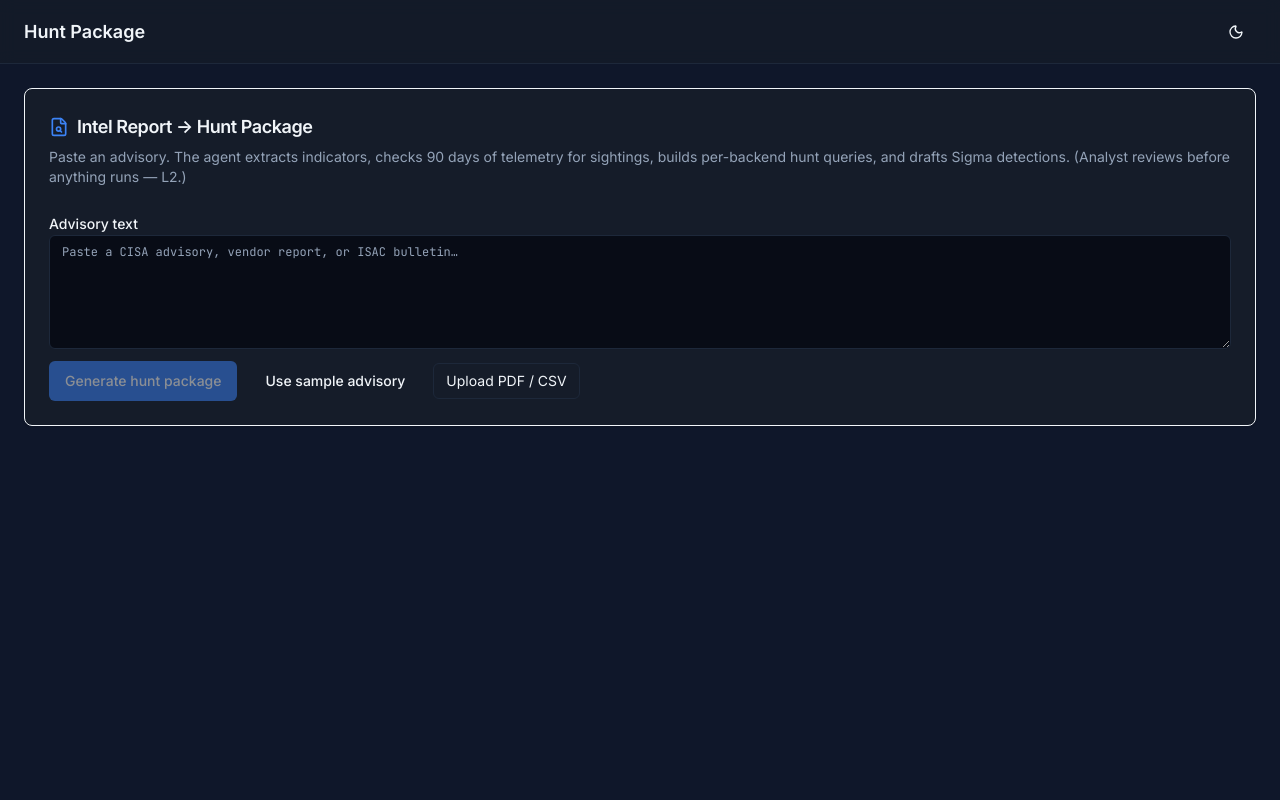
Test: HuntPackagePage promote to investigation › hides the promote button on a transient (unsaved) package
The image size is (1280, 800).
Type "some advisory" into the text box with test id "hunt-package-input" at (640, 292), box [49, 235, 1231, 349]
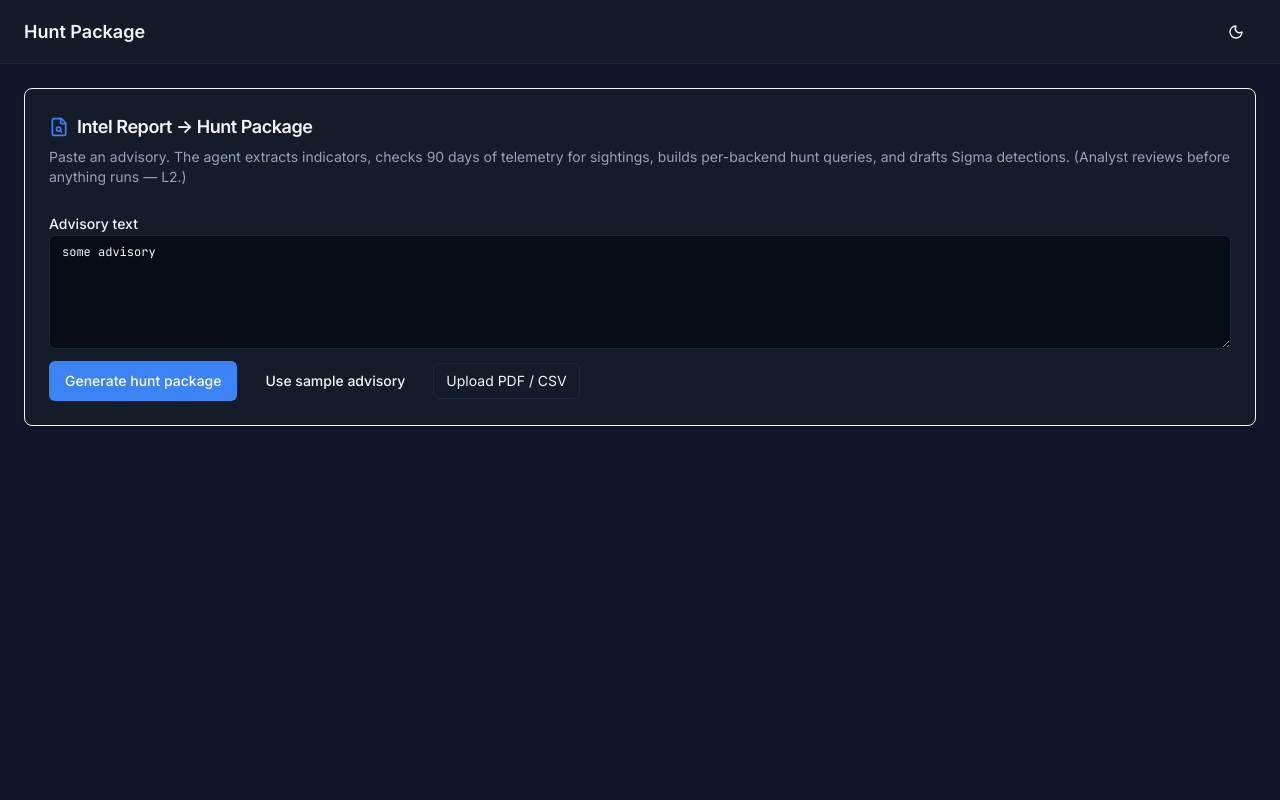
Click the button "Generate hunt package" at (143, 381), box [49, 361, 238, 401]
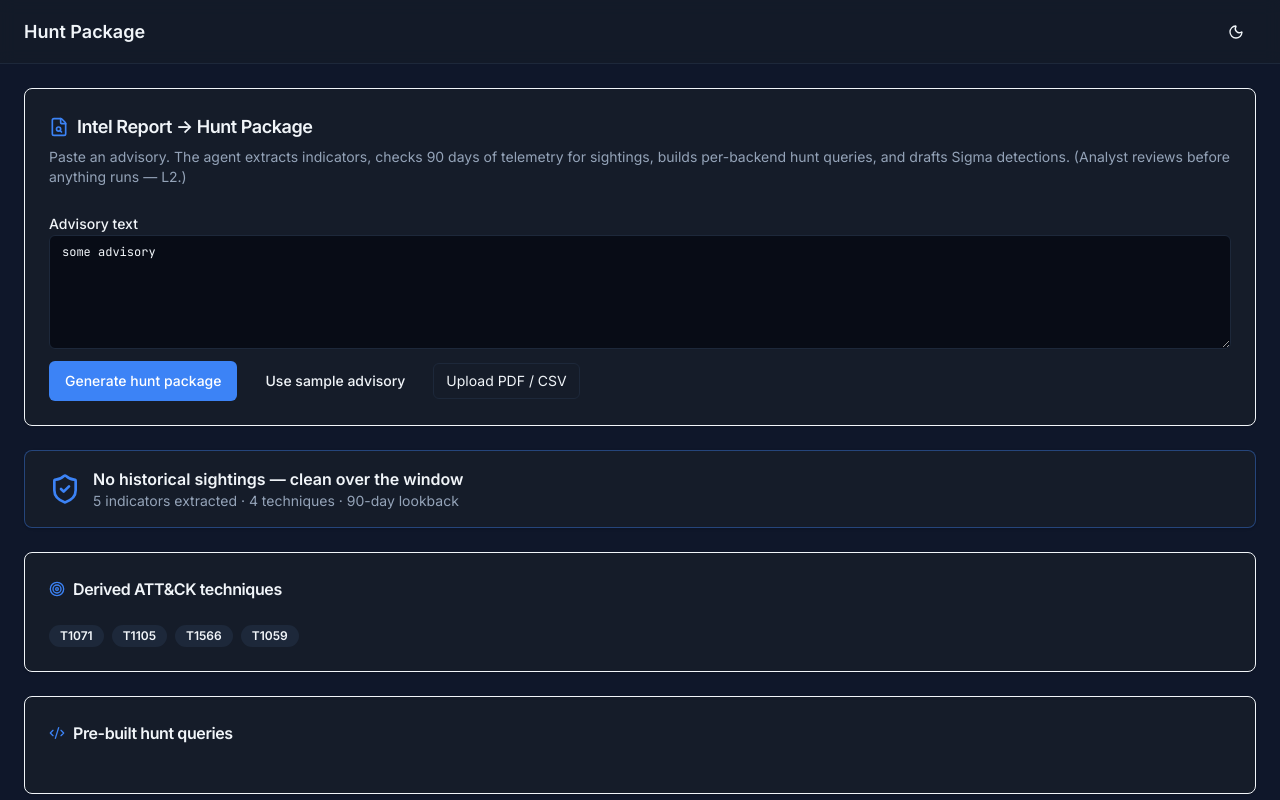
Result: the element with test id "hunt-package-result" is shown at [24, 450, 1256, 794]
